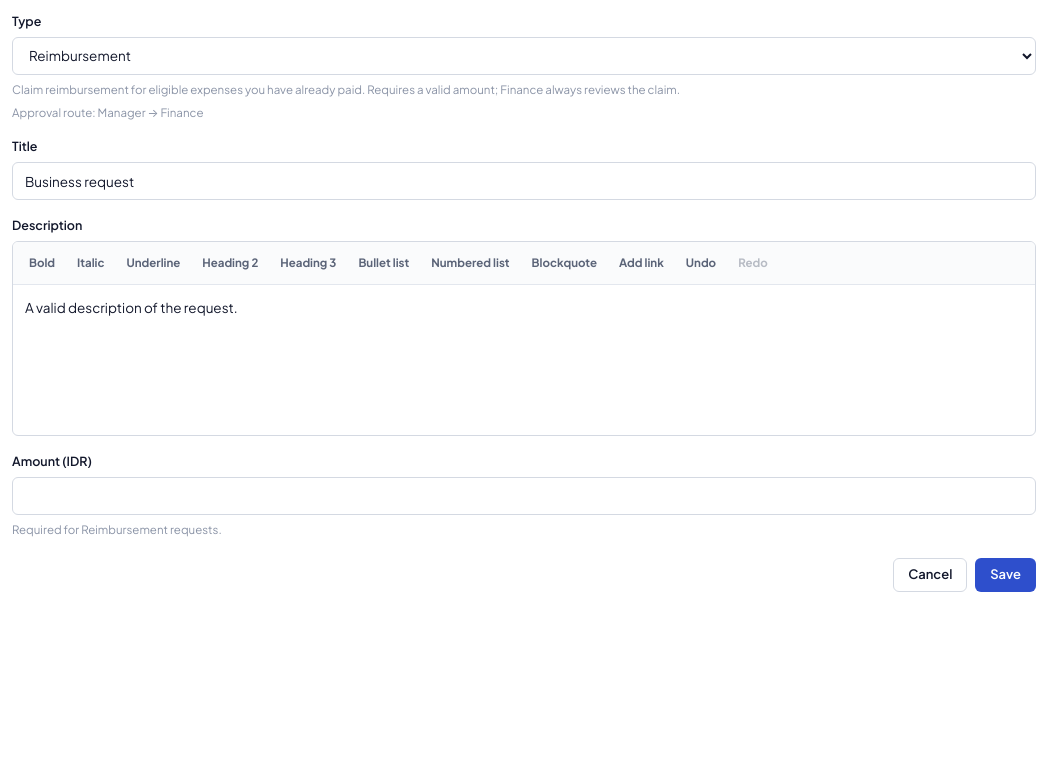
Scenario: type-specific amount validation (M3) › requires an amount for a Reimbursement
Click the button "Save".
click(1006, 575)  # box [975,558,1036,592]
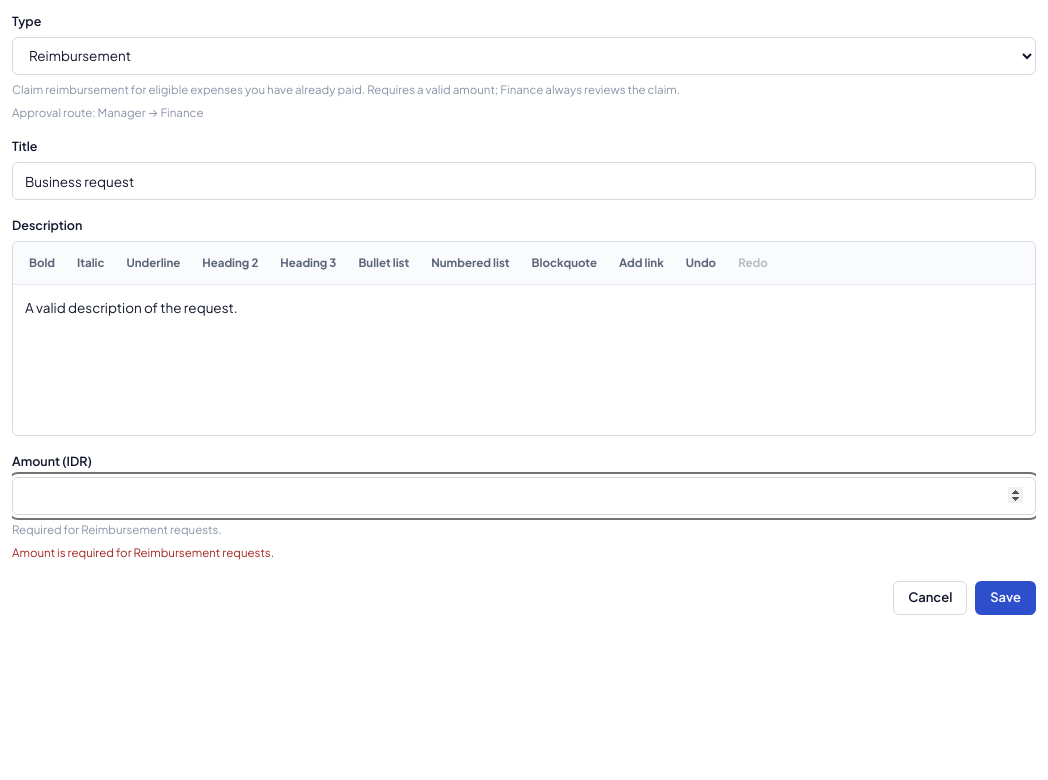
Check: the text "Amount is required for Reimbursement requests." is shown, box [12,545,274,560]
